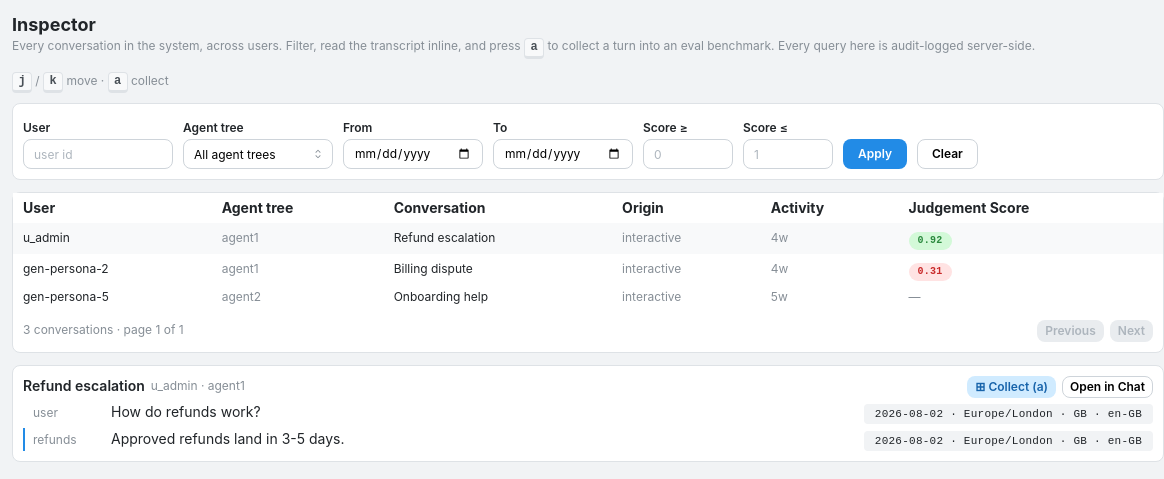
Test: inline transcript reader › switches transcripts when another row is selected
The image size is (1164, 479).
Click the row with test id "inspector-row" that starts with "gen-persona-2".
click(66, 268)  # box x1=13 y1=254 x2=1163 y2=285
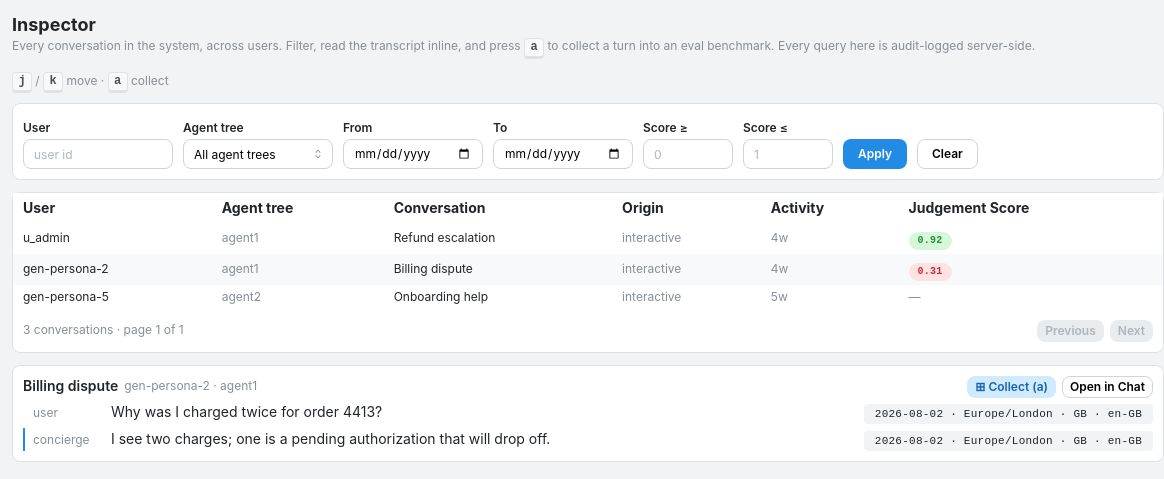
Now the text "Why was I charged twice for order 4413?" is shown, box x1=111 y1=403 x2=382 y2=420
